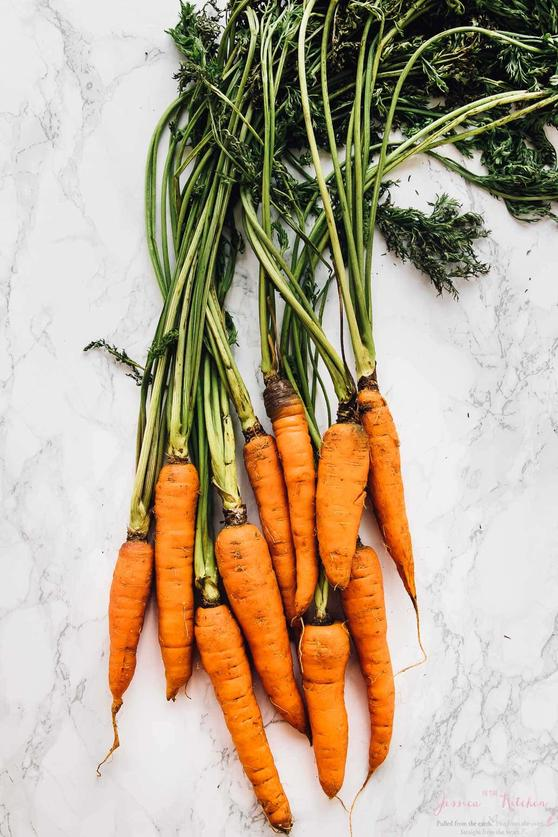carrot: (208, 516, 320, 737), (148, 452, 205, 703), (235, 424, 306, 598), (309, 412, 367, 588)
